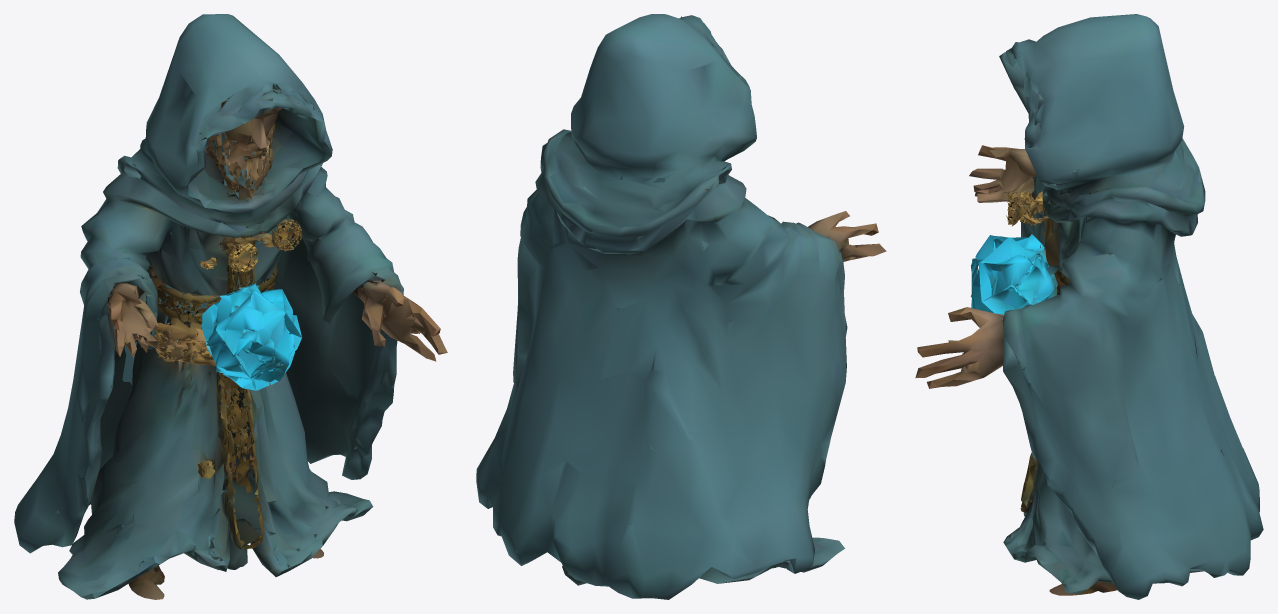
File: fig_dread_wraith.glb
3 renders of one model, left to right at view 1: azimuth 30°, elevation 25°; view 2: azimuth 150°, elevation 25°; view 3: azimuth 270°, elevation 25°, orthographic. The views are drawn at different scales.
Visible parts, largest first — view 1: fig_dread_wraith; view 2: fig_dread_wraith; view 3: fig_dread_wraith.
Part boxes in pixels (bbox=[...]): fig_dread_wraith: bbox=[14, 14, 447, 599]; fig_dread_wraith: bbox=[476, 14, 886, 599]; fig_dread_wraith: bbox=[915, 14, 1263, 599].
Bounding box in the file's own units: 0.6228 × 0.9228 × 0.5374.
1 material, 1 textured.
